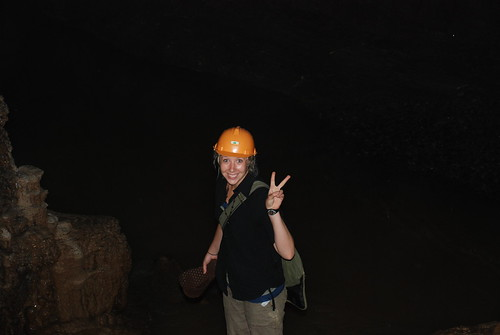person hardhat: (182, 120, 315, 335)
